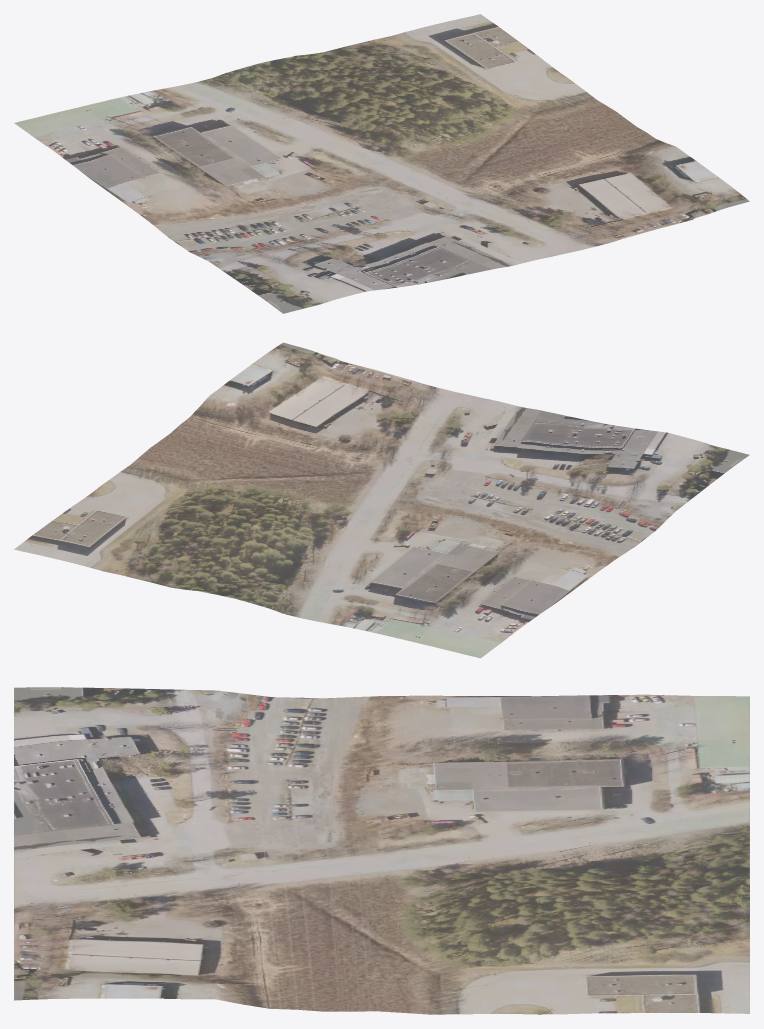
Rendered from CM_Terrain_24492916_6816517.fbx.
The picture shows the model from 3 angles, top to bottom: view 1: azimuth 30°, elevation 25°; view 2: azimuth 150°, elevation 25°; view 3: azimuth 270°, elevation 25°; orthographic projection. The views are drawn at different scales.
Visible parts, largest first — view 1: CM_Terrain_24492916_6816517_LOD0; view 2: CM_Terrain_24492916_6816517_LOD0; view 3: CM_Terrain_24492916_6816517_LOD0.
Part boxes in pixels (left/top/right/bottom): CM_Terrain_24492916_6816517_LOD0: left=14, top=14, right=749, bottom=313; CM_Terrain_24492916_6816517_LOD0: left=14, top=342, right=749, bottom=658; CM_Terrain_24492916_6816517_LOD0: left=14, top=687, right=749, bottom=1014.
Size of what is drawn, in the model's own units: 205 by 6.56 by 205.
